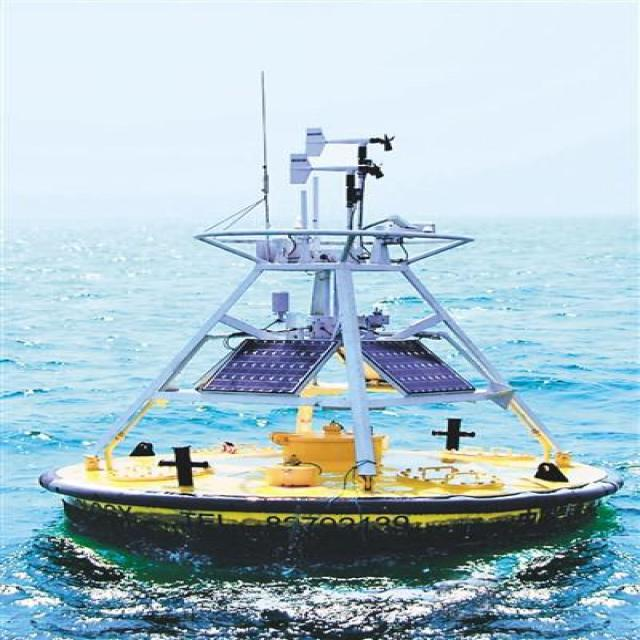buoy: (27, 99, 625, 540)
